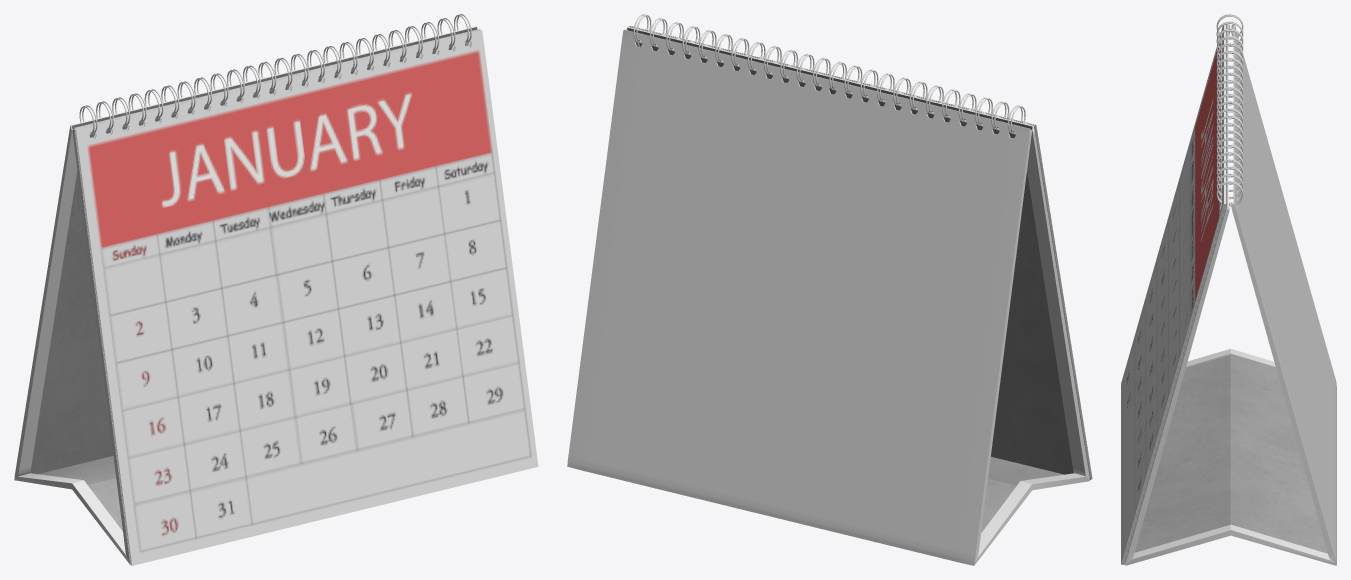
Rendered from Calender.glb.
3 views of the same model, side by side, from view 1: azimuth 30°, elevation 25°; view 2: azimuth 150°, elevation 25°; view 3: azimuth 270°, elevation 25° (orthographic). The views are drawn at different scales.
Visible parts, largest first — view 1: Calendar; view 2: Calendar; view 3: Calendar.
Boxes of the visible parts, bbox=[...] form: Calendar: bbox=[14, 14, 538, 565]; Calendar: bbox=[567, 14, 1092, 565]; Calendar: bbox=[1121, 14, 1336, 565].
Size of the model in its own units: 27.04 by 26.16 by 13.57.
Materials: 1 (1 with a texture image).
